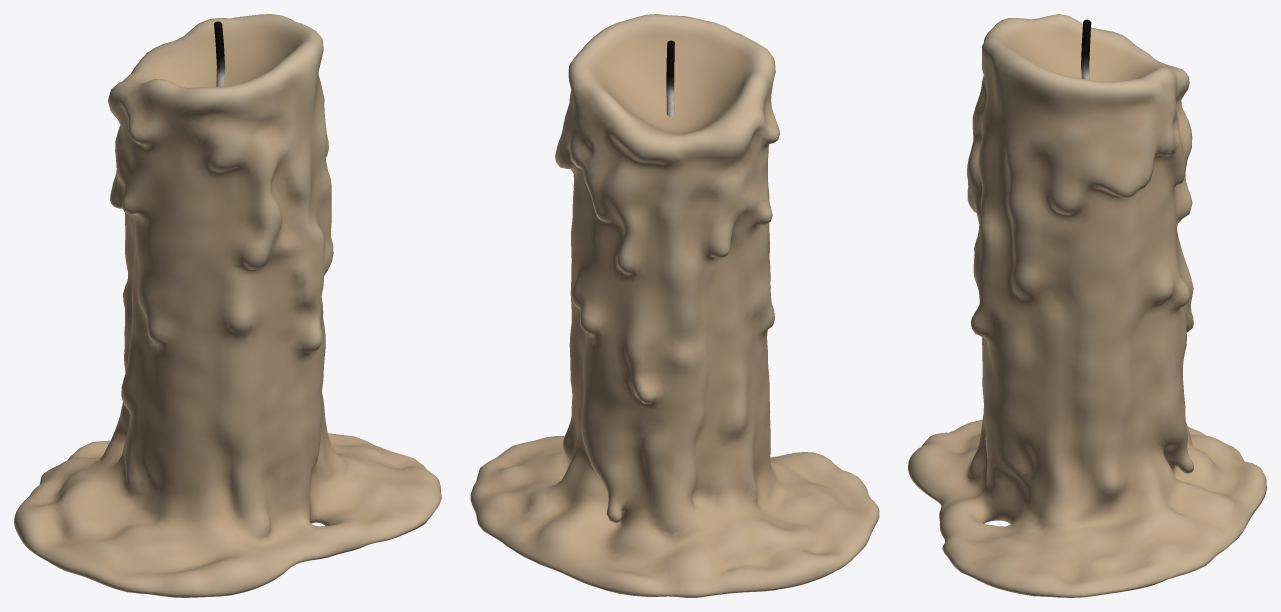
The model's file is candle.glb.
3 renders of one model, left to right at view 1: azimuth 30°, elevation 25°; view 2: azimuth 150°, elevation 25°; view 3: azimuth 270°, elevation 25°, orthographic. The views are drawn at different scales.
Visible parts, largest first — view 1: candle_2_2, candle_wick_2_3; view 2: candle_2_2, candle_wick_2_3; view 3: candle_2_2, candle_wick_2_3.
Boxes of the visible parts, x1,y1,x2,y2 form: candle_2_2: [14, 14, 441, 597]; candle_wick_2_3: [214, 21, 225, 86]; candle_2_2: [470, 14, 879, 597]; candle_wick_2_3: [666, 40, 674, 116]; candle_2_2: [908, 14, 1266, 597]; candle_wick_2_3: [1081, 19, 1091, 80].
Bounding box in the file's own units: 0.0955 × 0.1176 × 0.0792.
1 material, 1 textured.
